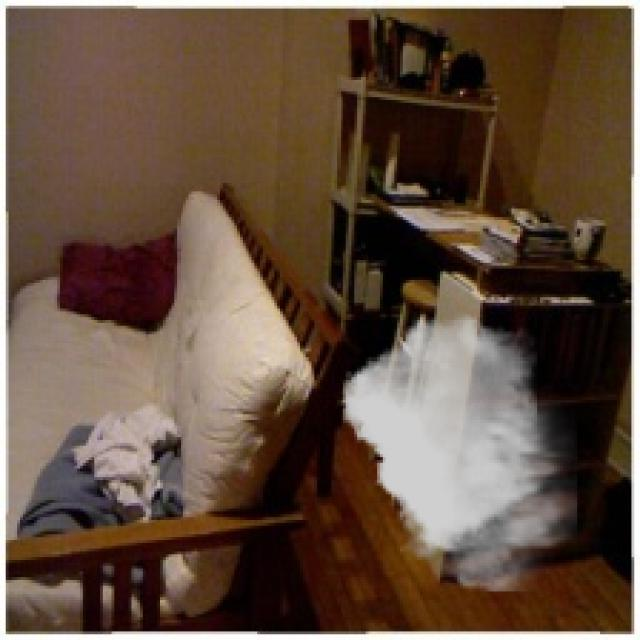smoke: (343, 314, 577, 592)
